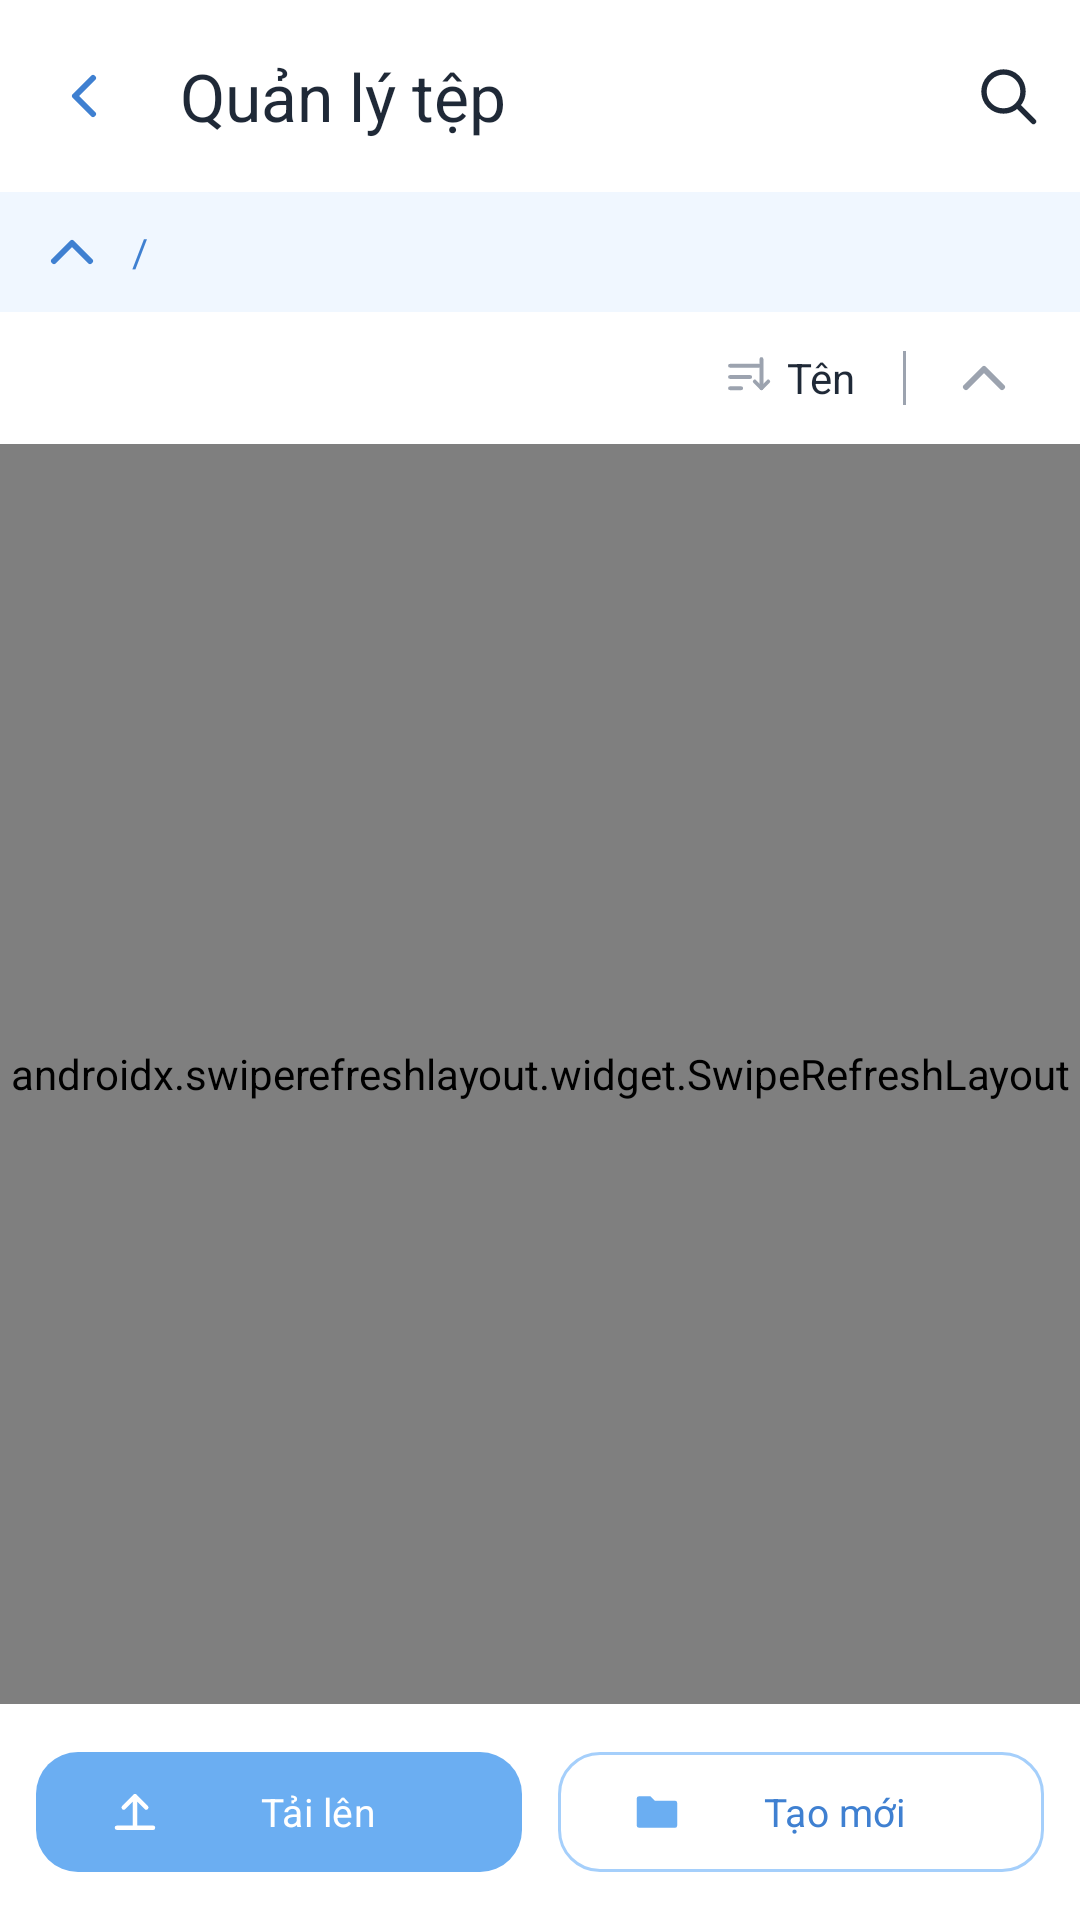

Named icons in this screenshot (1080px x 1920px) and their centers, [x,y]:
Lên thư mục cha: [72,252]
sort: [749,374]
Tìm kiếm: [1009,97]
